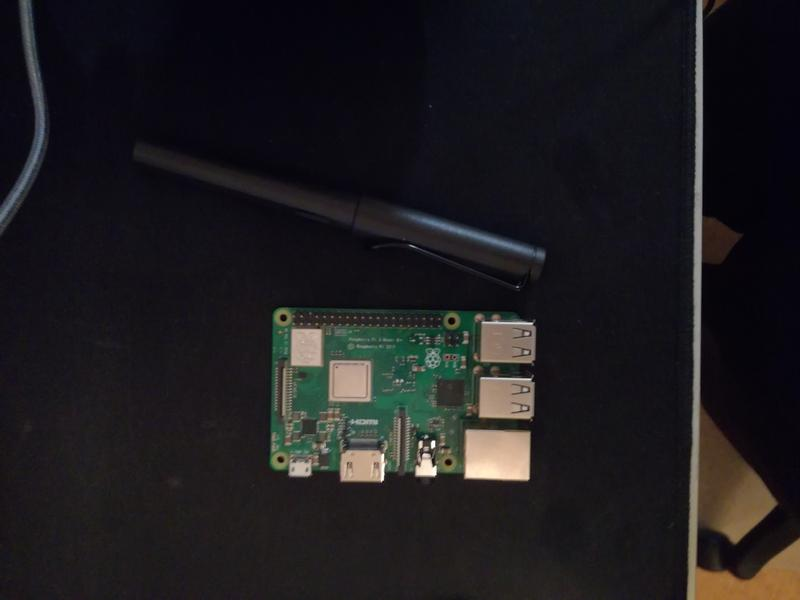Raspberry_Pi_3: (261, 301, 545, 490)
